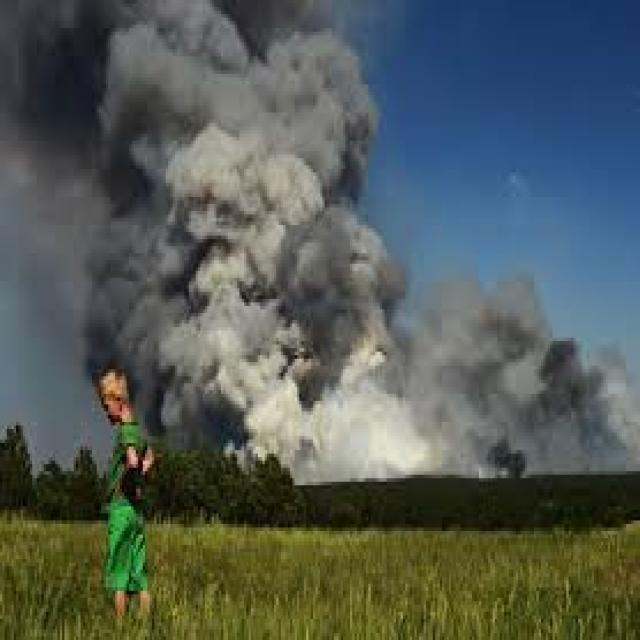Smoke: (159, 218, 640, 464), (109, 0, 434, 343)
